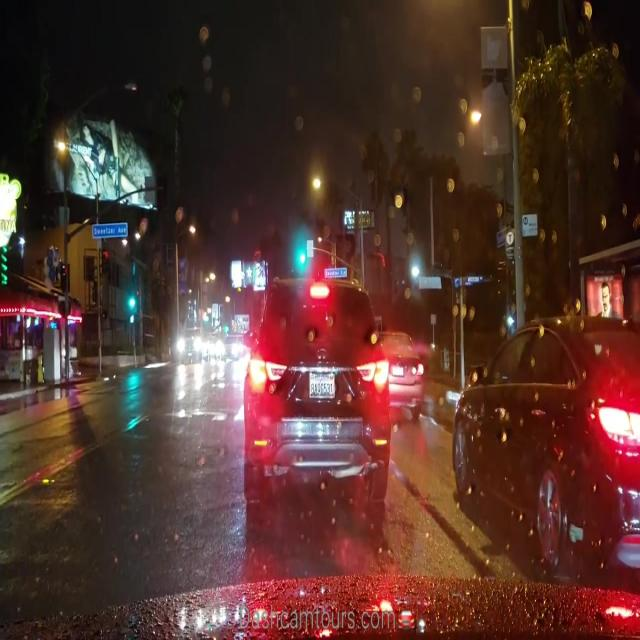Car: (452, 326, 639, 572), (240, 275, 386, 513)
